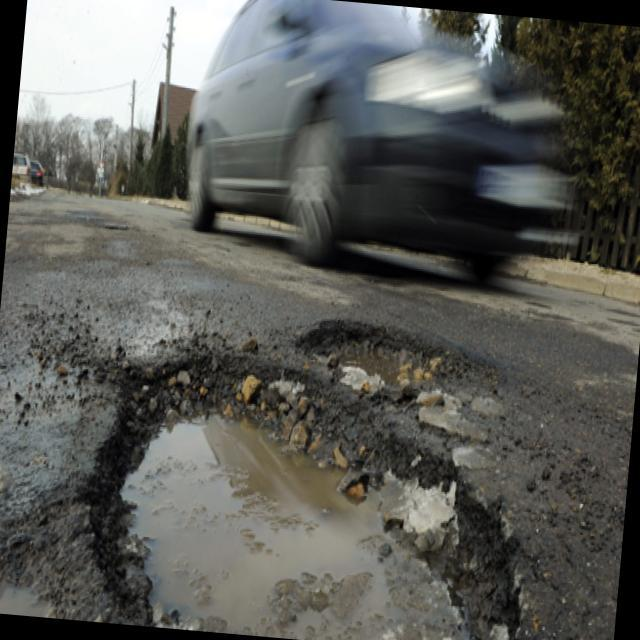Pothole: (57, 338, 543, 640), (296, 286, 472, 414)
